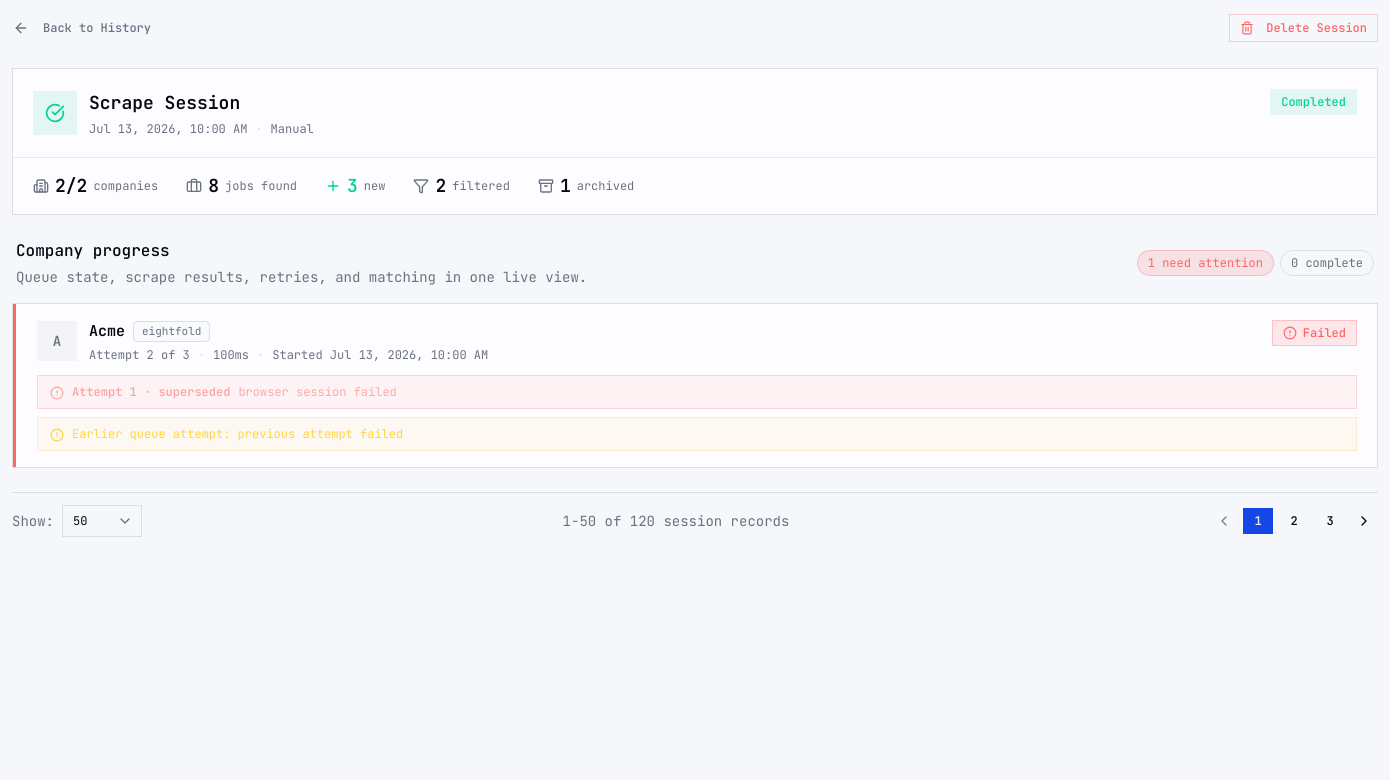
SessionDetail › uses the shared numbered pagination for session records
Expected: the text "1-50 of 120 session records" is shown, [563, 510, 789, 530]
Click the button named "Page 2" at [1294, 520], box [1278, 506, 1310, 534]
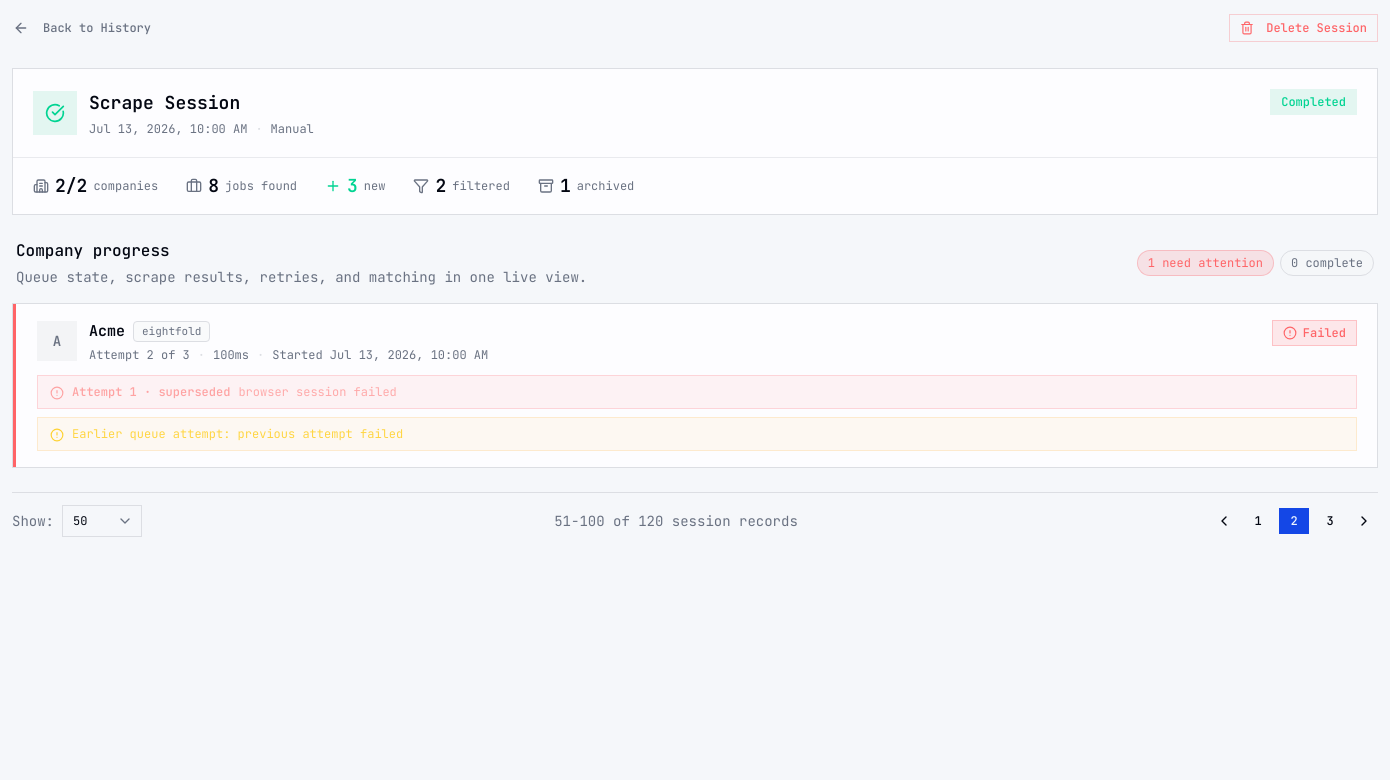
Expected: the navigation bar named "Session records pagination" is shown, [12, 492, 1378, 536]
Expected: the text "51-100 of 120 session records" is shown, [554, 510, 798, 530]
